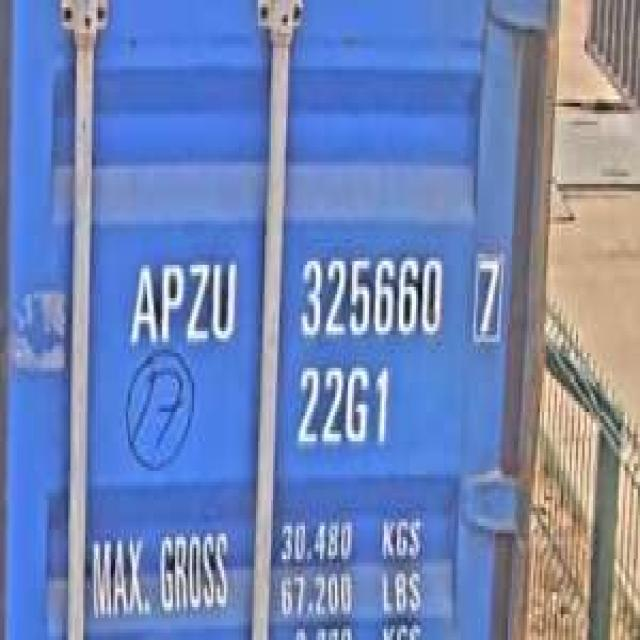dv: (469, 246, 506, 346)
owner: (126, 246, 239, 350)
serial: (294, 243, 446, 346)
size: (292, 357, 388, 449)
